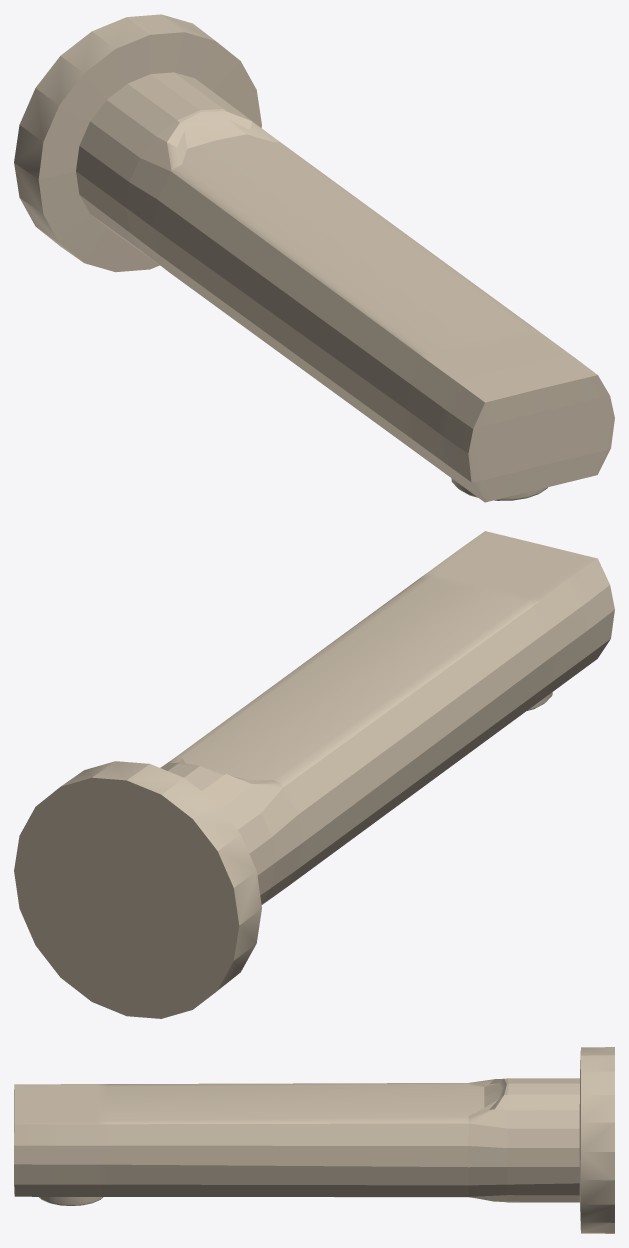
Rendered from switcher_07_L.fbx.
3 renders of one model, top to bottom at view 1: azimuth 30°, elevation 25°; view 2: azimuth 150°, elevation 25°; view 3: azimuth 270°, elevation 25°, orthographic. The views are drawn at different scales.
Parts seen in each view (by area): view 1: switcher_07_L; view 2: switcher_07_L; view 3: switcher_07_L.
Part boxes in pixels (<box>): switcher_07_L: <box>14,14,614,502</box>; switcher_07_L: <box>14,531,614,1018</box>; switcher_07_L: <box>14,1047,614,1233</box>.
Bounding box in the file's own units: 1.3 × 1.3 × 4.16.
